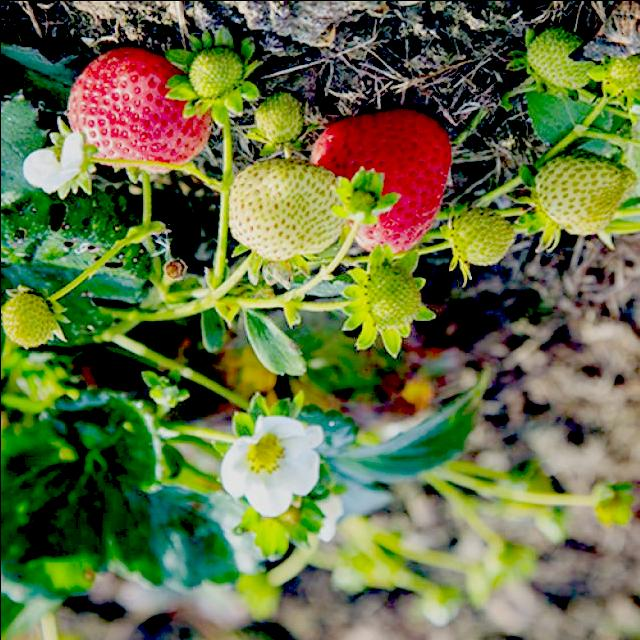ripe: (308, 106, 456, 264), (58, 30, 214, 178)
unripe: (218, 156, 354, 263), (517, 140, 640, 242), (172, 34, 258, 116), (349, 268, 434, 343), (440, 198, 518, 270), (0, 282, 71, 354), (520, 34, 598, 94), (246, 87, 305, 155)
